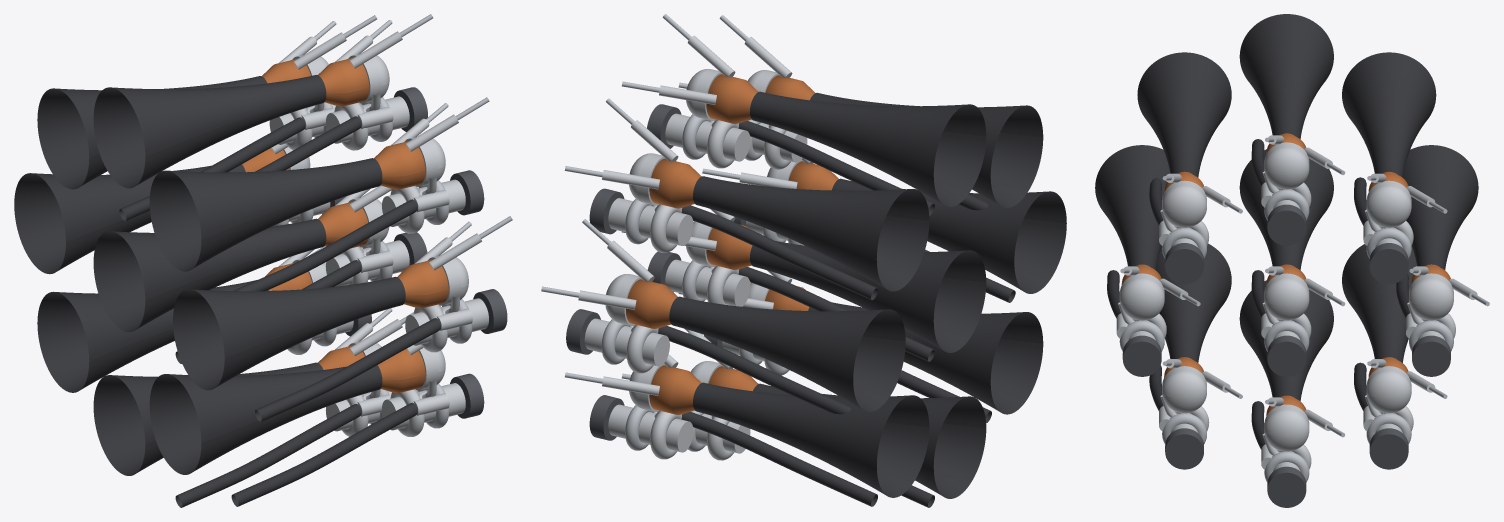
The model's file is x_engines.glb.
3 renders of one model, left to right at view 1: azimuth 30°, elevation 25°; view 2: azimuth 150°, elevation 25°; view 3: azimuth 270°, elevation 25°, orthographic. The views are drawn at different scales.
Size of the model in its own units: 2.8 by 3.77 by 3.47.
